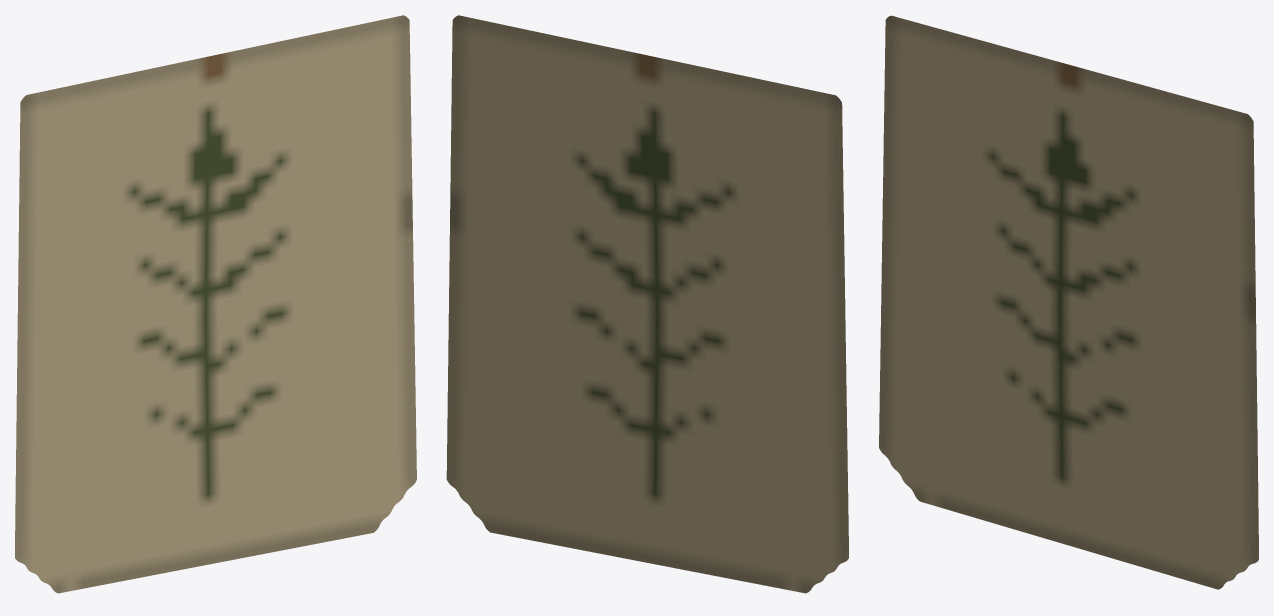
File: SM_Poster_Leaf.fbx
3 views of the same model, side by side, from view 1: azimuth 30°, elevation 25°; view 2: azimuth 150°, elevation 25°; view 3: azimuth 330°, elevation 25° (orthographic). The views are drawn at different scales.
Visible parts, largest first — view 1: Poster_Leaf_Visual; view 2: Poster_Leaf_Visual; view 3: Poster_Leaf_Visual.
Part boxes in pixels (<box>): Poster_Leaf_Visual: <box>15,15,416,593</box>; Poster_Leaf_Visual: <box>446,15,848,593</box>; Poster_Leaf_Visual: <box>879,15,1258,589</box>.
Size of the model in its own units: 0.1736 by 0.2156 by 0.000735.
